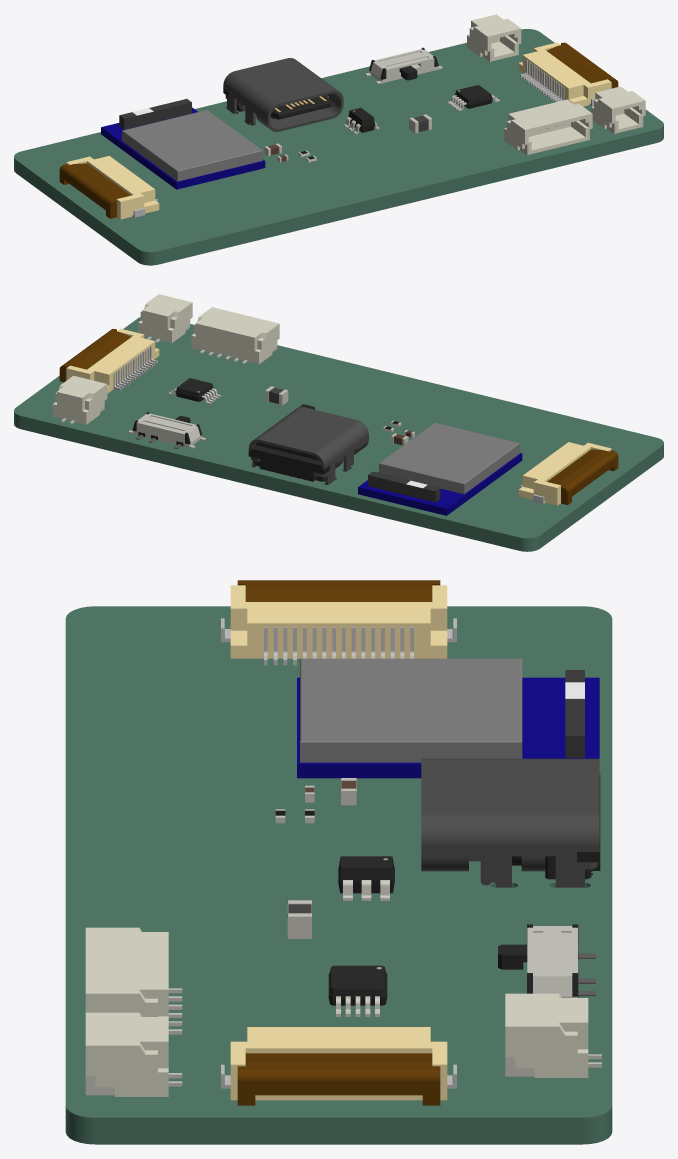
Rendered from carrier.glb.
The picture shows the model from 3 angles, top to bottom: view 1: azimuth 30°, elevation 25°; view 2: azimuth 150°, elevation 25°; view 3: azimuth 270°, elevation 25°; orthographic projection. The views are drawn at different scales.
Visible parts, largest first — view 1: =>[0:1:1:31], =>[0:1:1:24], =>[0:1:1:15], body (×2), =>[0:1:1:3] (×2), =>[0:1:1:13], lock (×2), =>[0:1:1:28], pins, =>[0:1:1:9], =>[0:1:1:26]; view 2: =>[0:1:1:31], =>[0:1:1:24], =>[0:1:1:15], body (×2), =>[0:1:1:3] (×2), =>[0:1:1:13], lock (×2), =>[0:1:1:28], pins, =>[0:1:1:9]; view 3: =>[0:1:1:31], =>[0:1:1:24], =>[0:1:1:15], body (×2), =>[0:1:1:3] (×2), lock (×2), =>[0:1:1:13], =>[0:1:1:28], pins, =>[0:1:1:9], =>[0:1:1:26], =>[0:1:1:11].
Part boxes in pixels (x1,y1,x2,y2): =>[0:1:1:31]: (14,29,663,265); =>[0:1:1:24]: (101,99,265,189); =>[0:1:1:15]: (223,58,343,131); body (×2): (66,42,611,219); =>[0:1:1:3] (×2): (467,14,645,134); =>[0:1:1:13]: (504,99,592,155); lock (×2): (59,42,618,218); =>[0:1:1:28]: (365,47,442,84); pins: (520,59,595,106); =>[0:1:1:9]: (447,85,499,111); =>[0:1:1:26]: (344,107,379,134); =>[0:1:1:31]: (14,317,663,551); =>[0:1:1:24]: (358,422,522,515); =>[0:1:1:15]: (248,407,368,484); body (×2): (66,328,611,505); =>[0:1:1:3] (×2): (52,294,192,424); =>[0:1:1:13]: (191,307,279,364); lock (×2): (59,329,618,504); =>[0:1:1:28]: (128,412,205,448); pins: (113,346,157,390); =>[0:1:1:9]: (168,378,220,404); =>[0:1:1:31]: (65,606,612,1144); =>[0:1:1:24]: (297,658,599,778); =>[0:1:1:15]: (421,758,600,887); body (×2): (230,585,447,1100); =>[0:1:1:3] (×2): (85,993,601,1096); lock (×2): (237,580,440,1105); =>[0:1:1:13]: (85,927,182,1034); =>[0:1:1:28]: (498,924,595,997); pins: (221,618,456,665); =>[0:1:1:9]: (328,965,387,1016); =>[0:1:1:26]: (338,856,394,900); =>[0:1:1:11]: (287,900,311,938).
Size of the model in its own units: 0.062 by 0.00615 by 0.028.
